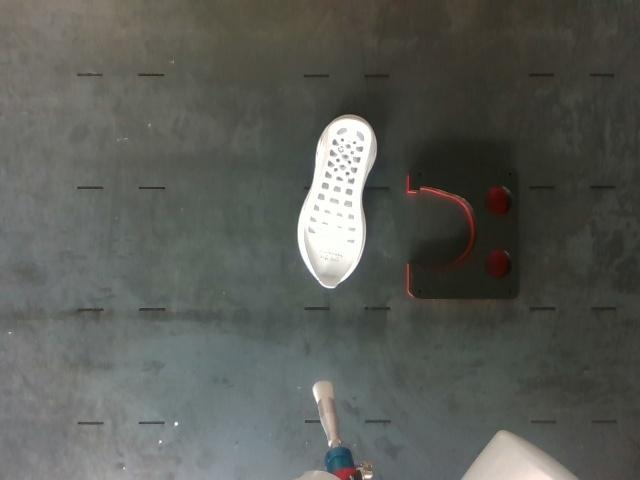shoes: (302, 119, 371, 288)
